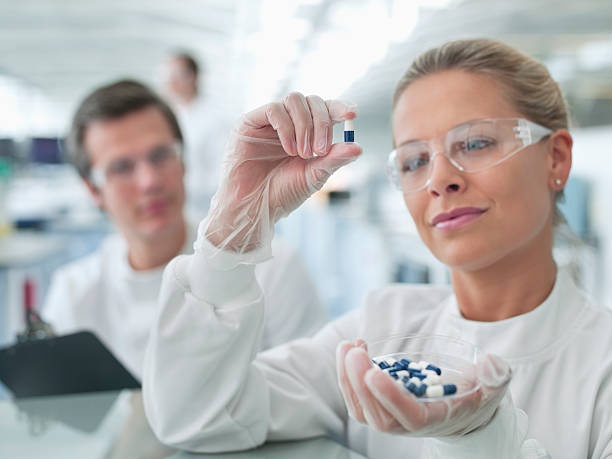pills: (423, 384, 460, 398), (342, 114, 356, 147)
